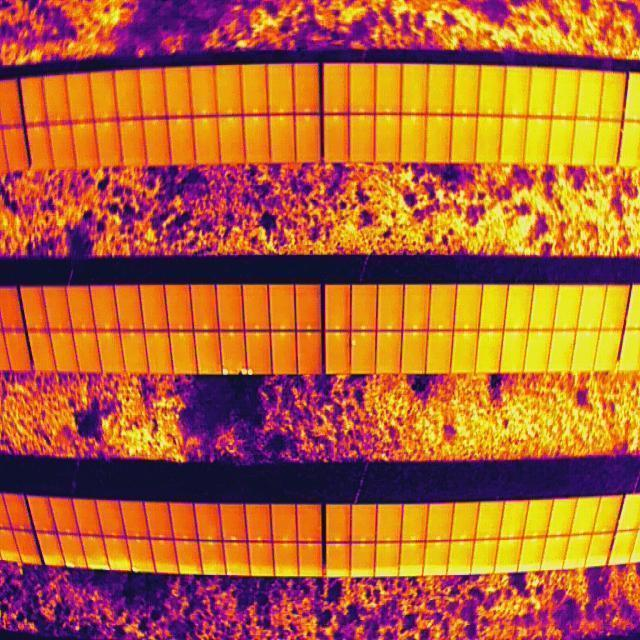hotspot: (222, 367, 247, 376), (249, 368, 255, 376)
